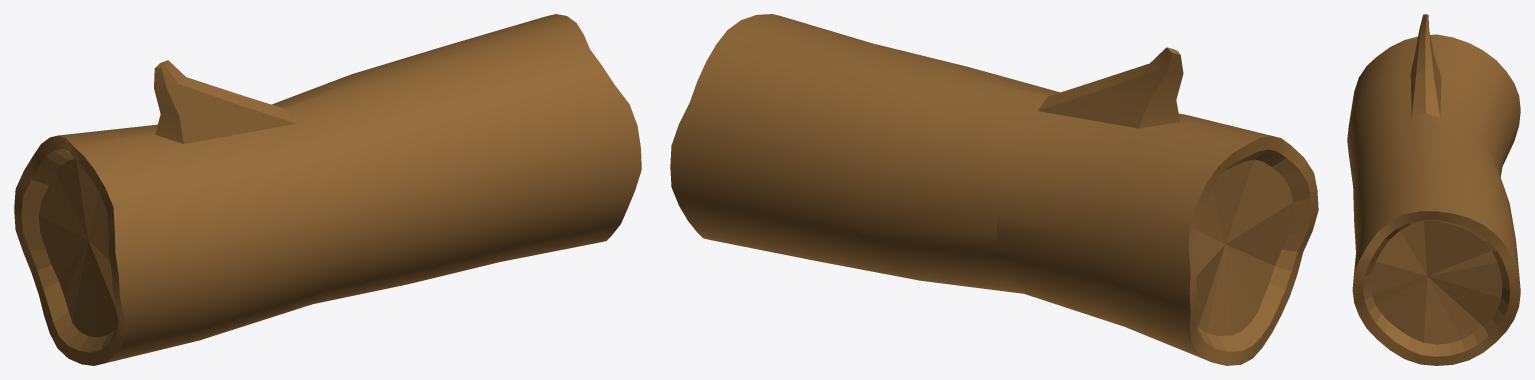
File: Assets.fbx_Baumstamm.fbx
3 views of the same model, side by side, from view 1: azimuth 30°, elevation 25°; view 2: azimuth 150°, elevation 25°; view 3: azimuth 270°, elevation 25° (orthographic). The views are drawn at different scales.
Visible parts, largest first — view 1: Baumstamm; view 2: Baumstamm; view 3: Baumstamm.
Boxes of the visible parts, left/top/right/bottom form: Baumstamm: left=14, top=14, right=641, bottom=365; Baumstamm: left=670, top=14, right=1318, bottom=365; Baumstamm: left=1347, top=14, right=1520, bottom=365.
Size of the model in its own units: 260 by 133 by 103.
